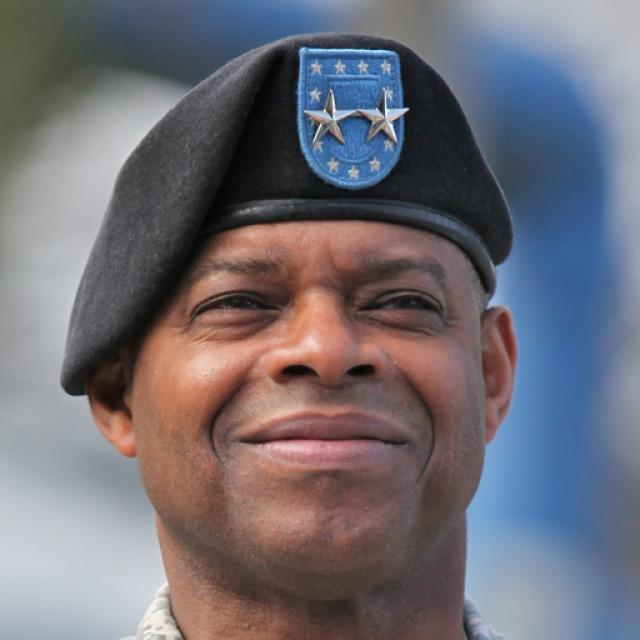happy: (139, 197, 484, 594)
